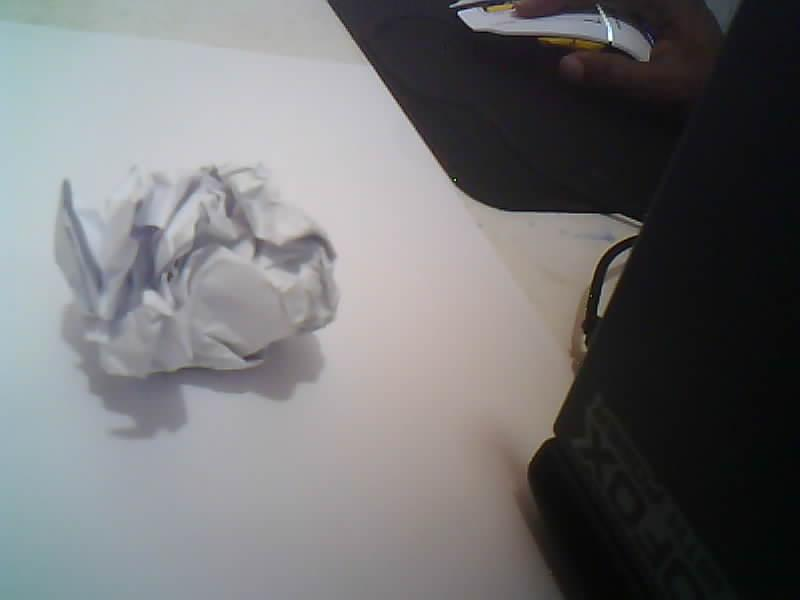biodegradable: (55, 166, 337, 376)
